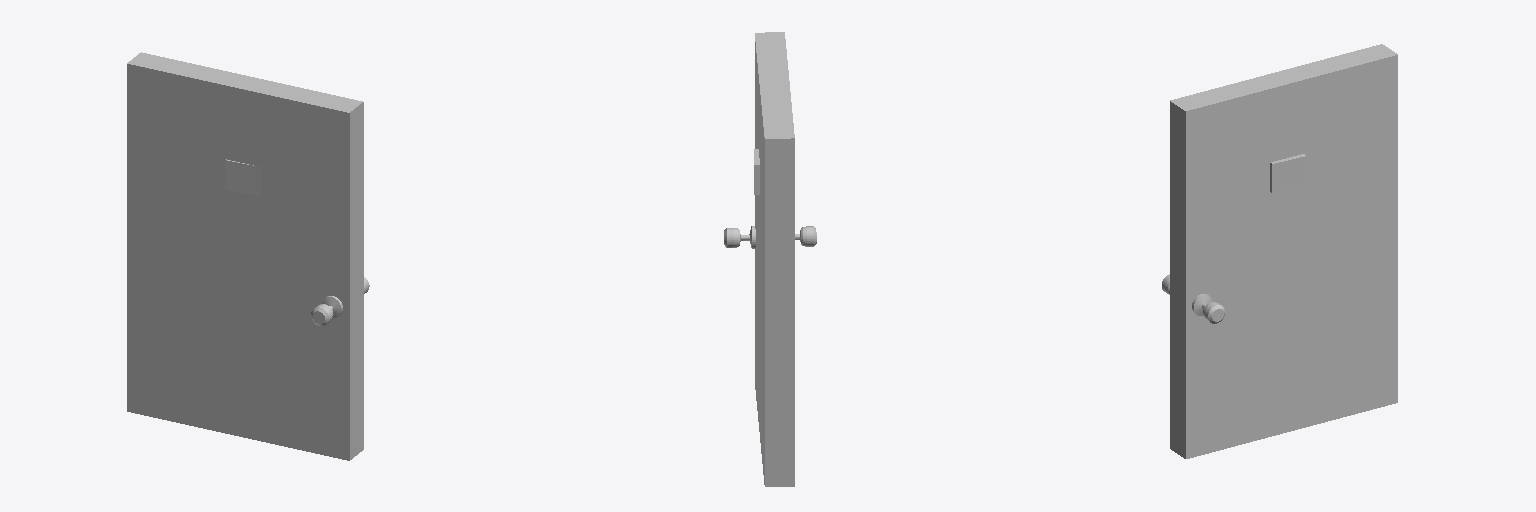
File: Door_0_Open_11.obj
3 views of the same model, side by side, from view 1: azimuth 30°, elevation 25°; view 2: azimuth 150°, elevation 25°; view 3: azimuth 270°, elevation 25° (orthographic).
Visible parts, largest first — view 1: Door.001; view 2: Door.001; view 3: Door.001.
Boxes of the visible parts, x1,y1,x2,y2 form: Door.001: [127, 52, 369, 460]; Door.001: [724, 32, 816, 486]; Door.001: [1162, 44, 1397, 458].
Size of the model in its own units: 0.5597 by 1.19 by 0.7354.